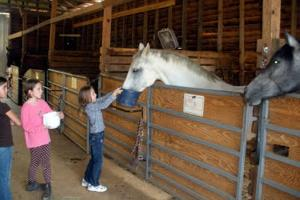person: (77, 85, 123, 193)
